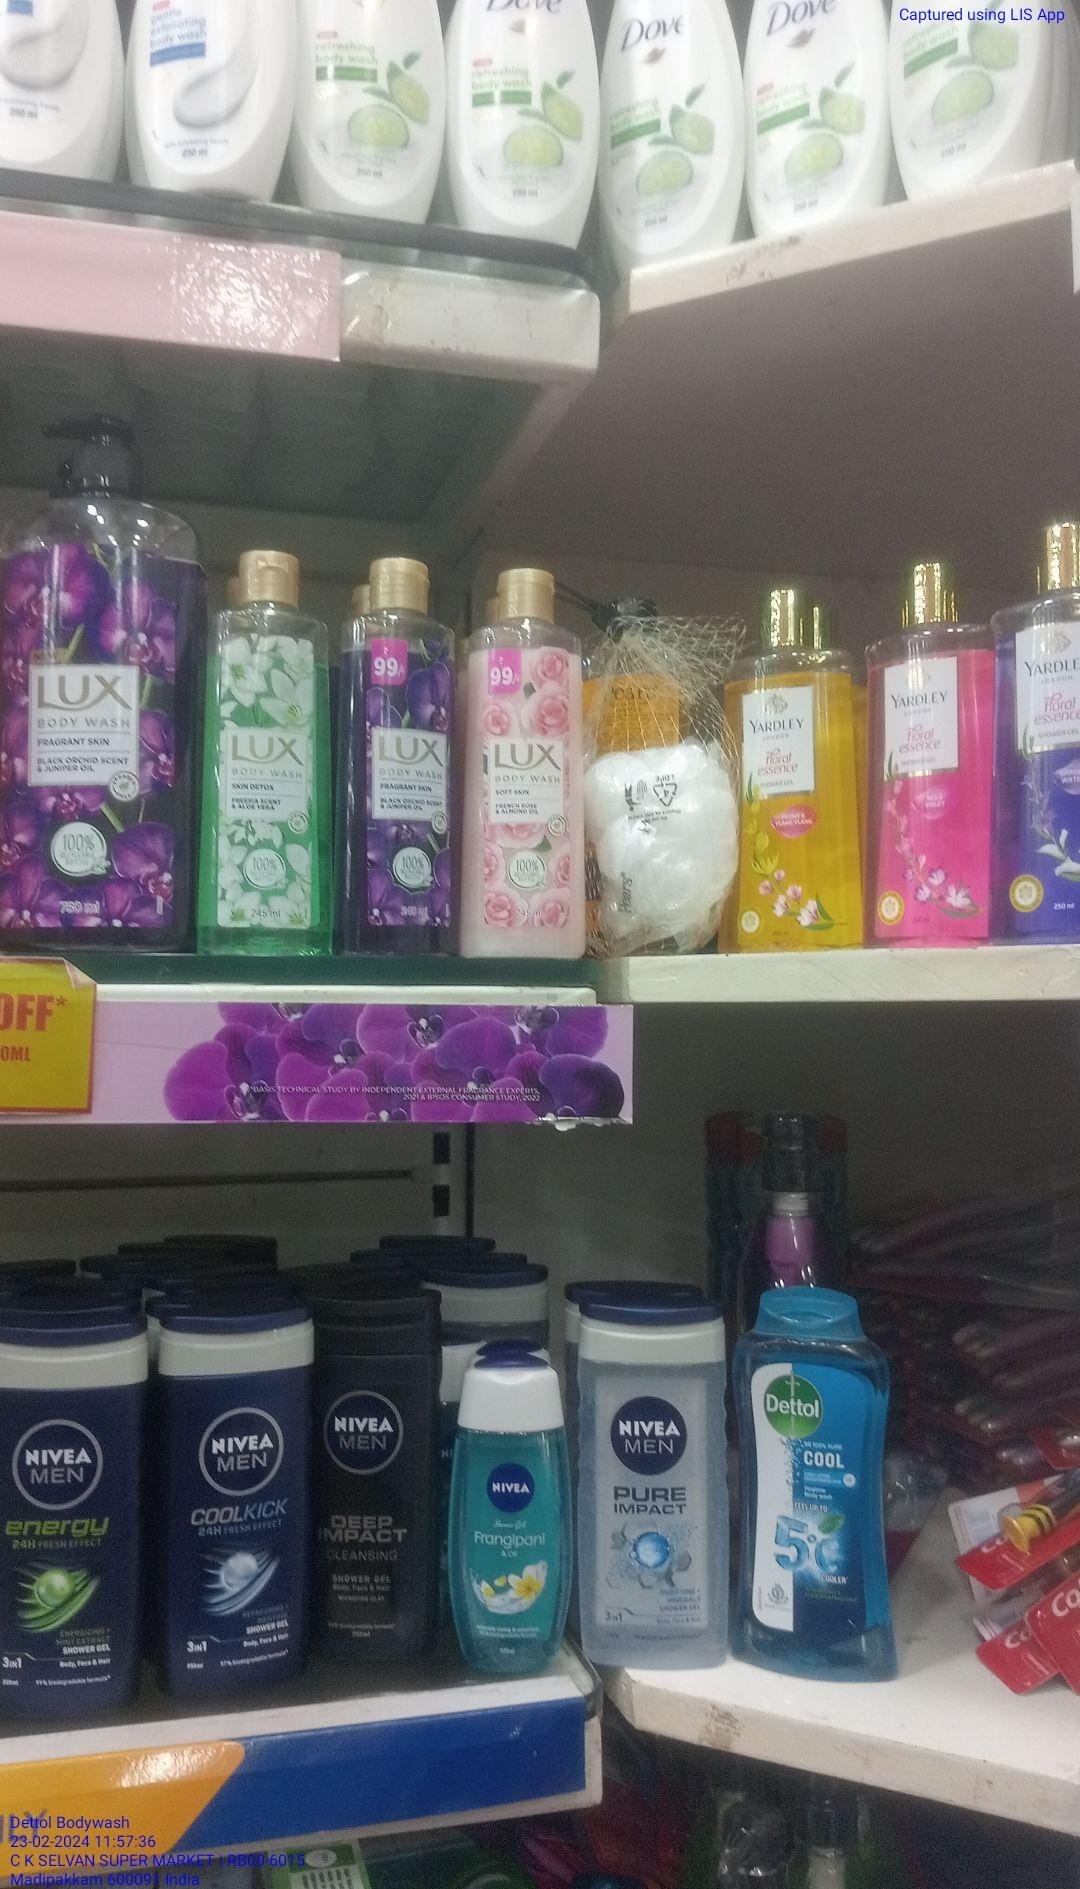Dettol_Bodywash_Cool: (735, 1296, 890, 1690)
Lux_Black_Orchid_Scent_and_Juniper_Oil_Body_Wash_245ML: (358, 551, 457, 954)
Lux_Body_Wash_Skin_Detox_Freesia_Scent_and_Alove_Vera_245ML: (202, 547, 332, 963)
Nivea_Shower_Gel_Frangipani_and_Oil_250ML: (443, 1353, 567, 1674)
